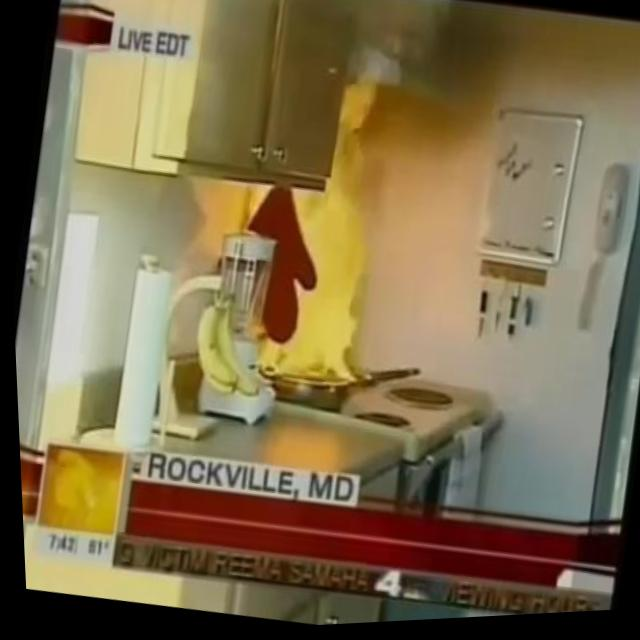fire: (205, 60, 439, 398)
